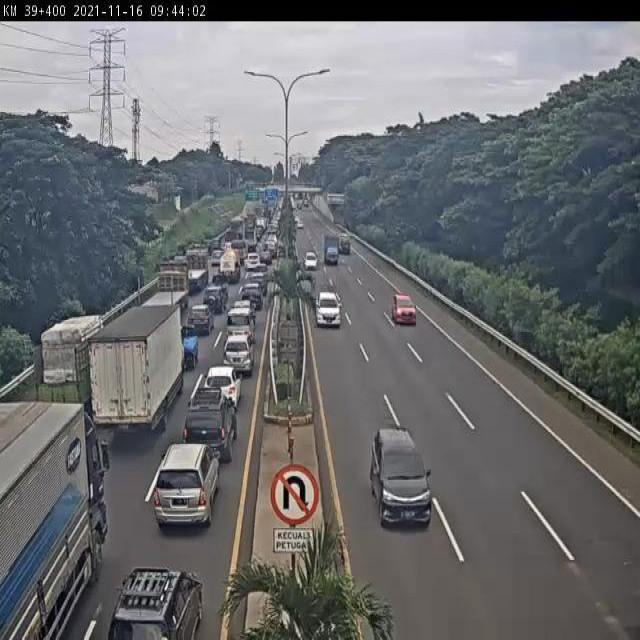car: (103, 565, 207, 640), (368, 421, 432, 531), (153, 443, 221, 525), (183, 388, 240, 459), (206, 365, 240, 408), (390, 288, 420, 325), (313, 292, 341, 329), (226, 335, 253, 373), (227, 308, 254, 343), (189, 303, 211, 336)
truck-l-: (138, 260, 189, 316), (176, 245, 210, 291)
truck-m-: (90, 302, 186, 434), (33, 314, 117, 418)
